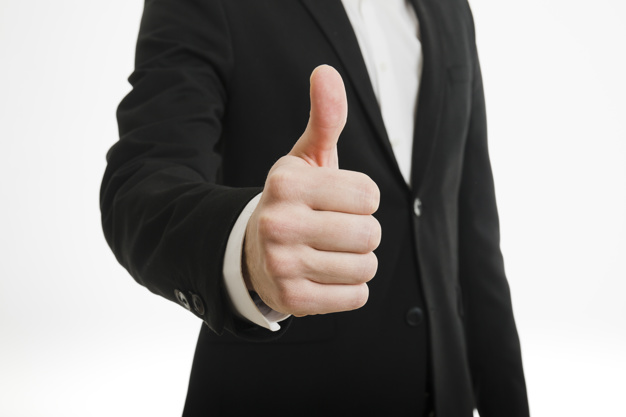thumbsup: (256, 62, 382, 316)
